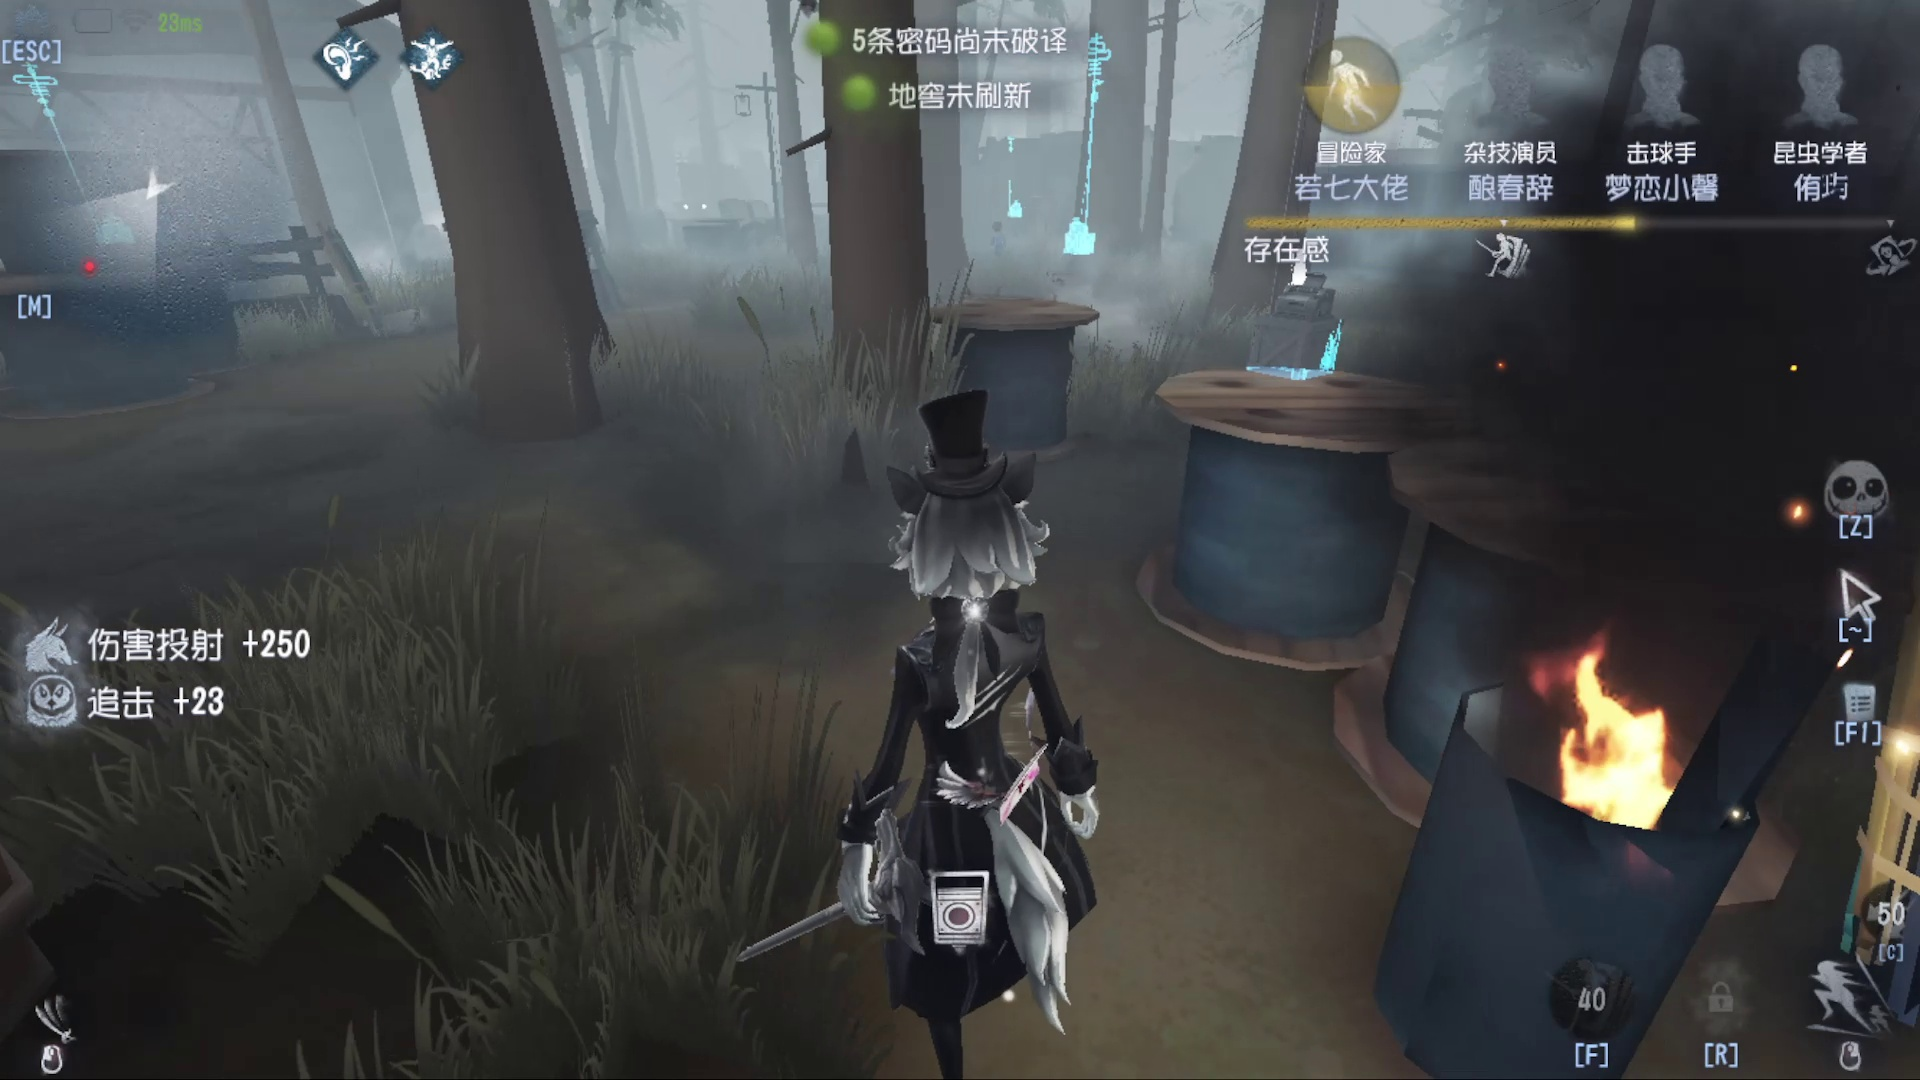密码机: (1207, 272, 1362, 393), (1059, 38, 1121, 285)
木板: (302, 215, 401, 349)
求生者: (994, 211, 1019, 272)
